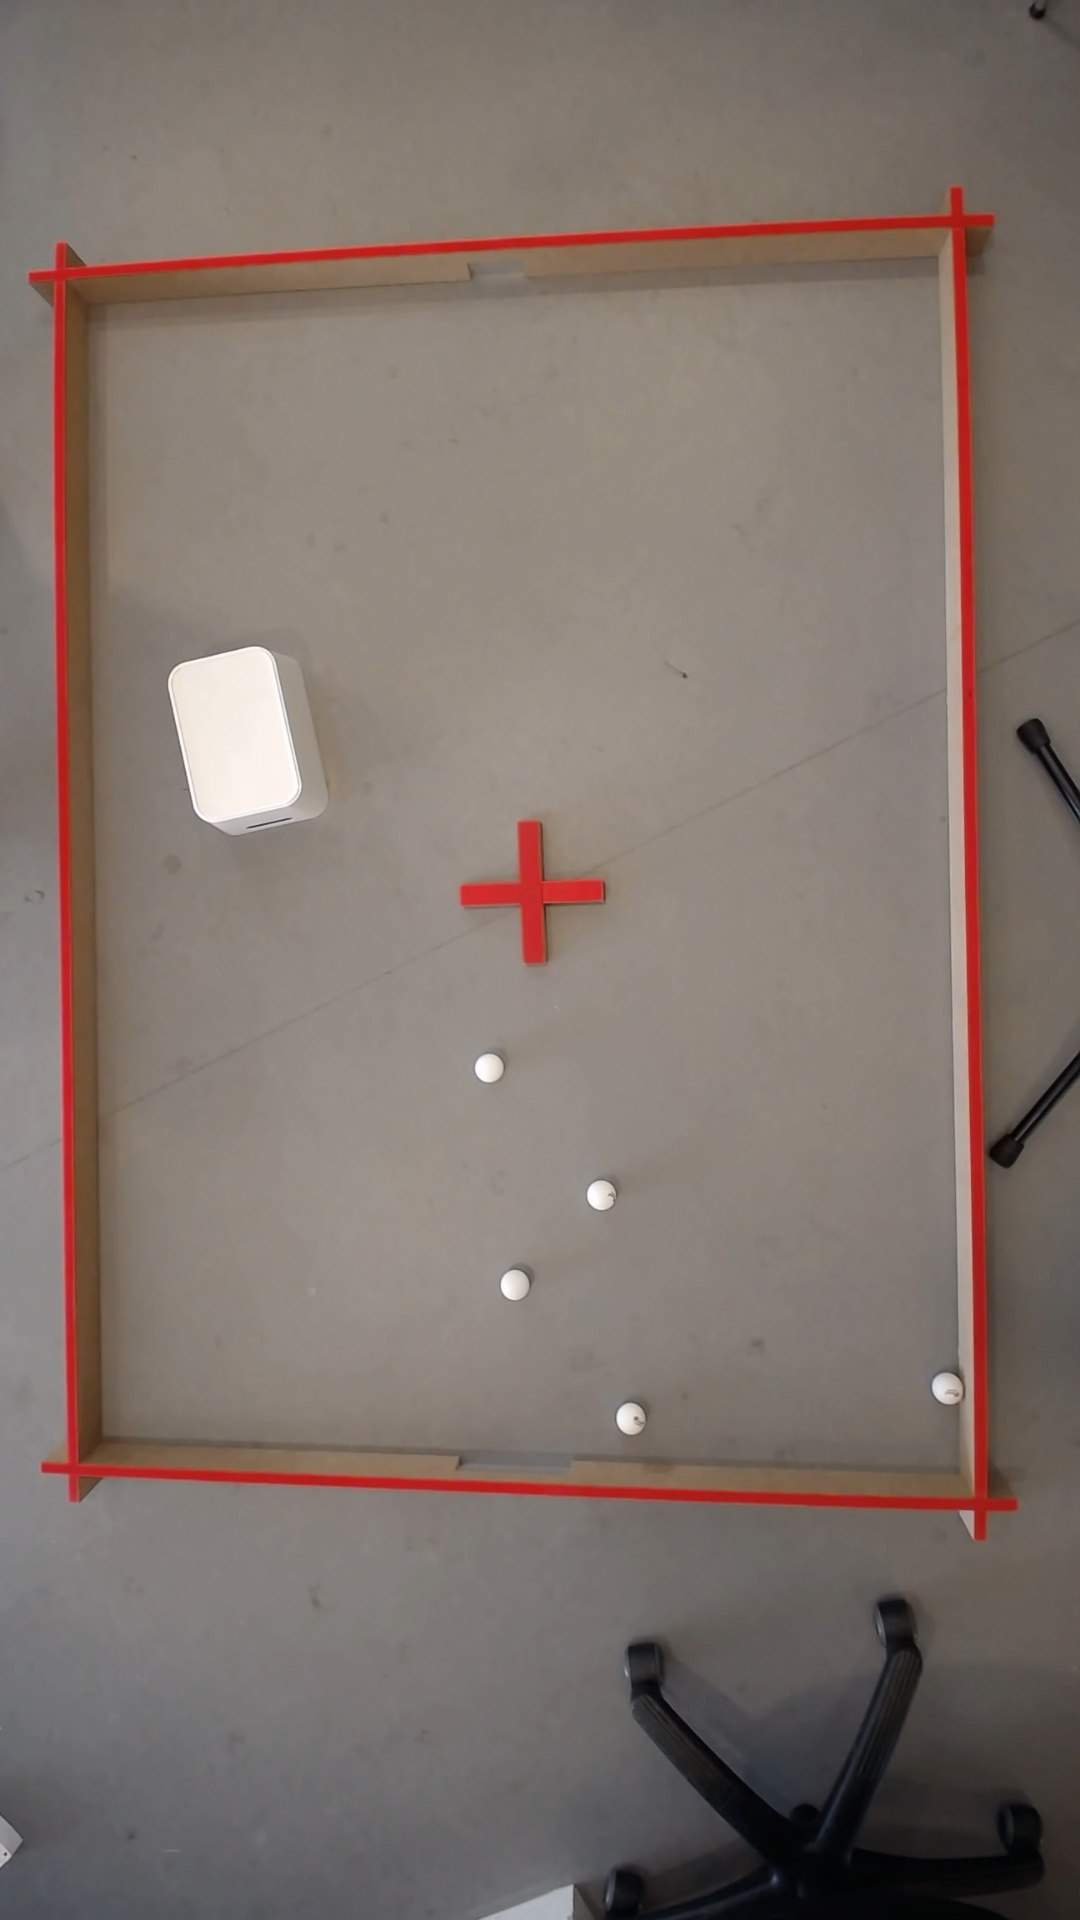balls: (161, 640, 305, 827), (582, 1176, 616, 1212), (495, 1266, 529, 1302), (473, 1054, 500, 1081), (616, 1404, 637, 1433)
car: (926, 1373, 959, 1404)
